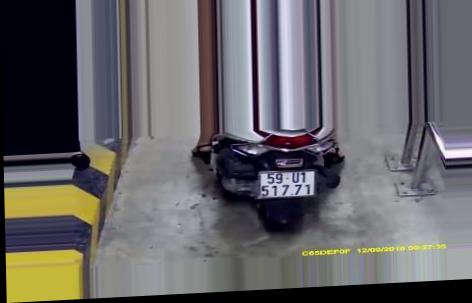License_Plate: (255, 166, 319, 203)
